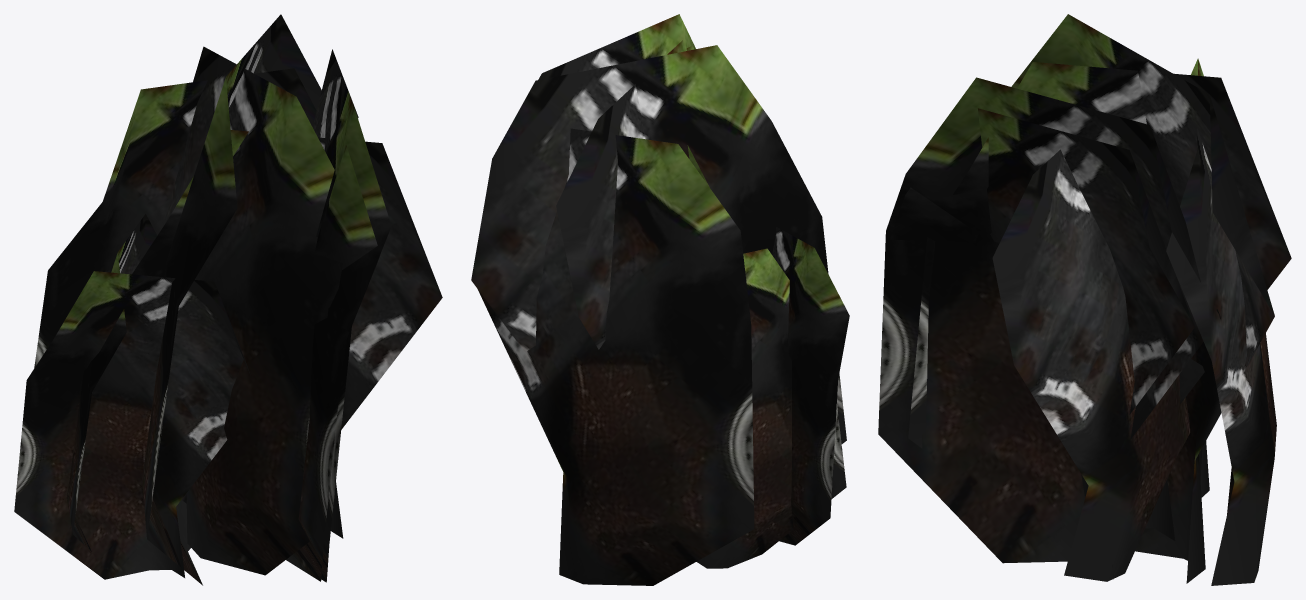
File: bijeli_cvijet.glb
3 renders of one model, left to right at view 1: azimuth 30°, elevation 25°; view 2: azimuth 150°, elevation 25°; view 3: azimuth 270°, elevation 25°, orthographic. The views are drawn at different scales.
Visible parts, largest first — view 1: WhiteFlower_1_Plants:aiStandardSurface44_0; view 2: WhiteFlower_1_Plants:aiStandardSurface44_0; view 3: WhiteFlower_1_Plants:aiStandardSurface44_0.
Part boxes in pixels (bbox=[...]): WhiteFlower_1_Plants:aiStandardSurface44_0: bbox=[14, 14, 442, 585]; WhiteFlower_1_Plants:aiStandardSurface44_0: bbox=[471, 14, 849, 585]; WhiteFlower_1_Plants:aiStandardSurface44_0: bbox=[878, 14, 1291, 585].
Bounding box in the file's own units: 20.26 × 28.24 × 19.76.
Materials: 1 (1 with a texture image).
